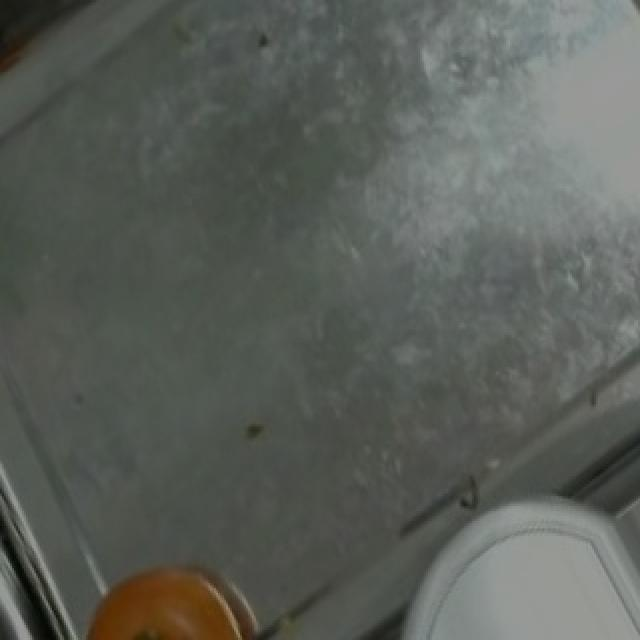Fruit: (408, 501, 640, 640), (64, 548, 262, 640)
